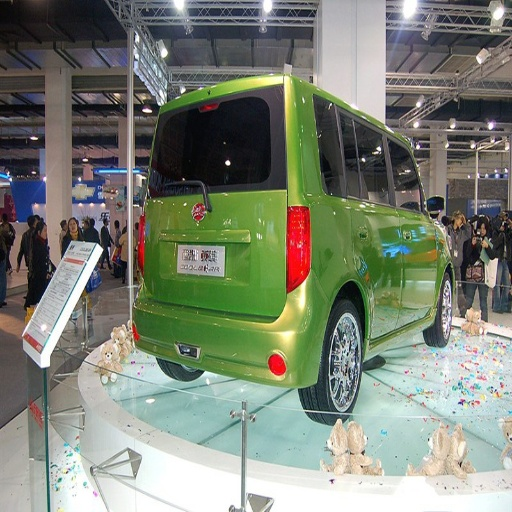back_bumper: (132, 284, 331, 386)
back_right_door: (358, 206, 402, 336)
trunk: (150, 192, 286, 316), (329, 208, 358, 271)
